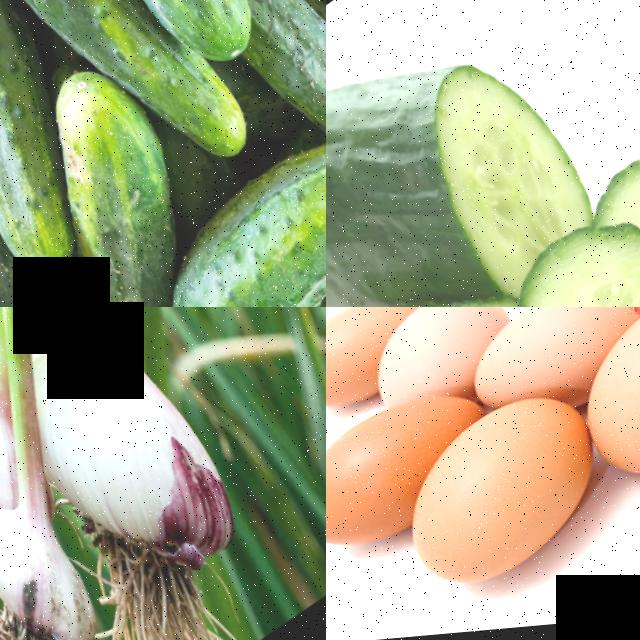cucumber: (326, 0, 542, 307), (0, 48, 217, 307), (112, 120, 326, 307), (3, 0, 296, 95), (458, 187, 640, 307), (212, 0, 326, 181), (0, 0, 170, 113), (0, 43, 51, 307), (0, 0, 74, 170)
egg_: (367, 382, 626, 613), (326, 384, 466, 570), (441, 307, 640, 425), (535, 307, 640, 511), (350, 307, 517, 416), (326, 307, 388, 436)
garlic: (0, 473, 107, 640)
